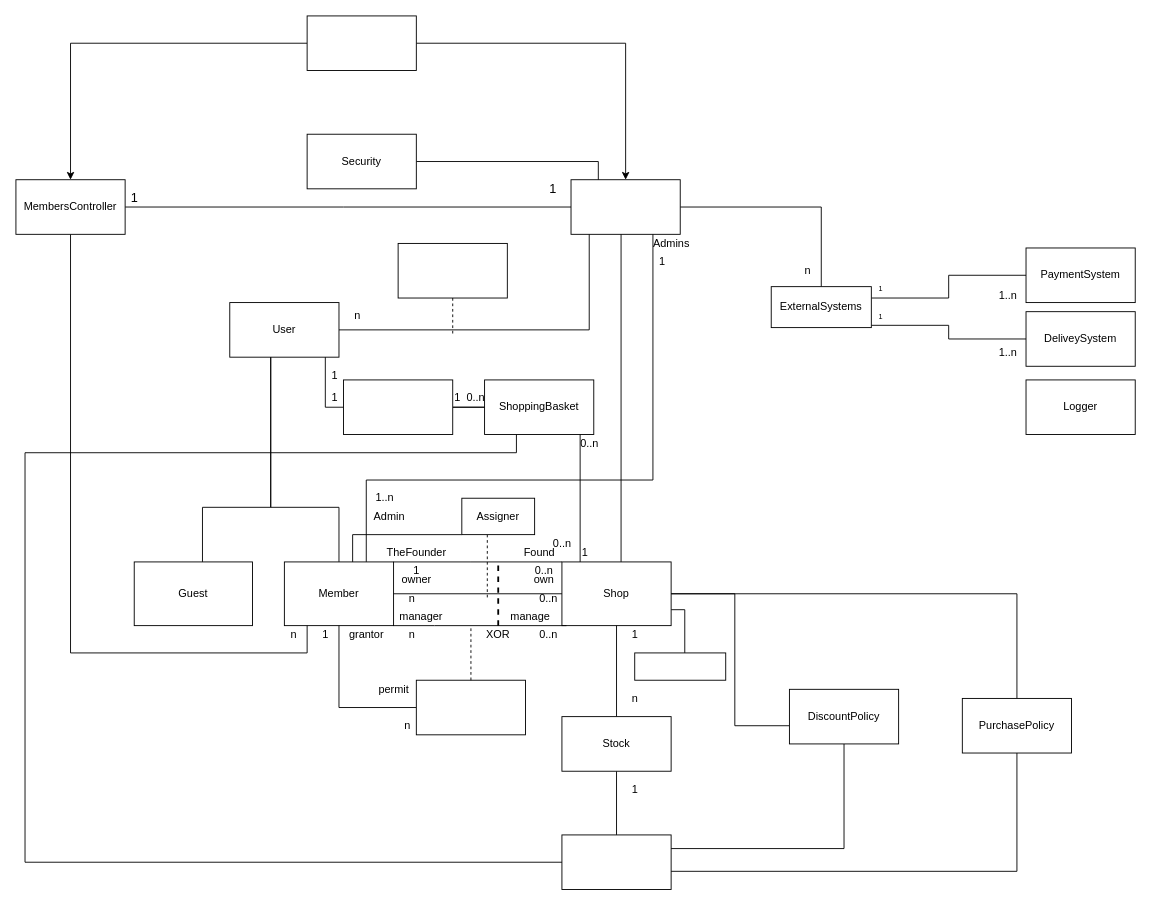
Image size: 1151x905. Some labels were removed from this diagram. The shapes that lost their labels are listed below. From the top down, each one's box as (x1, y1, x2, y2) in pixels, then its label:
(306, 15, 416, 71): TestBridge
(570, 179, 680, 234): Market
(397, 243, 507, 298): Notification
(343, 379, 453, 435): ShoppingCart
(634, 652, 726, 680): PurchaseHistory
(415, 679, 526, 735): permissions
(561, 834, 671, 890): StockItem
